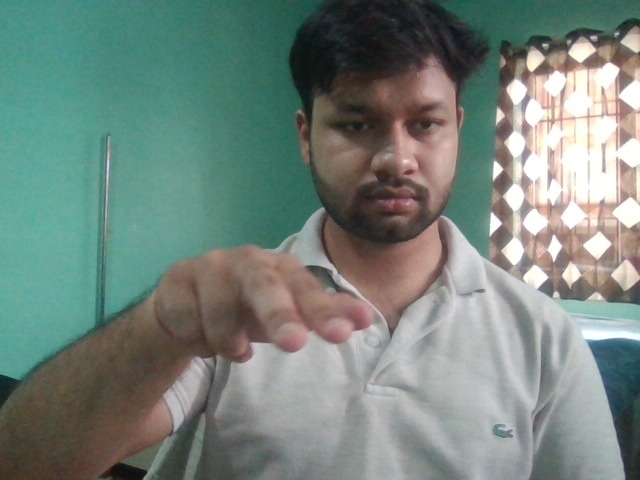No: (147, 243, 377, 366)
